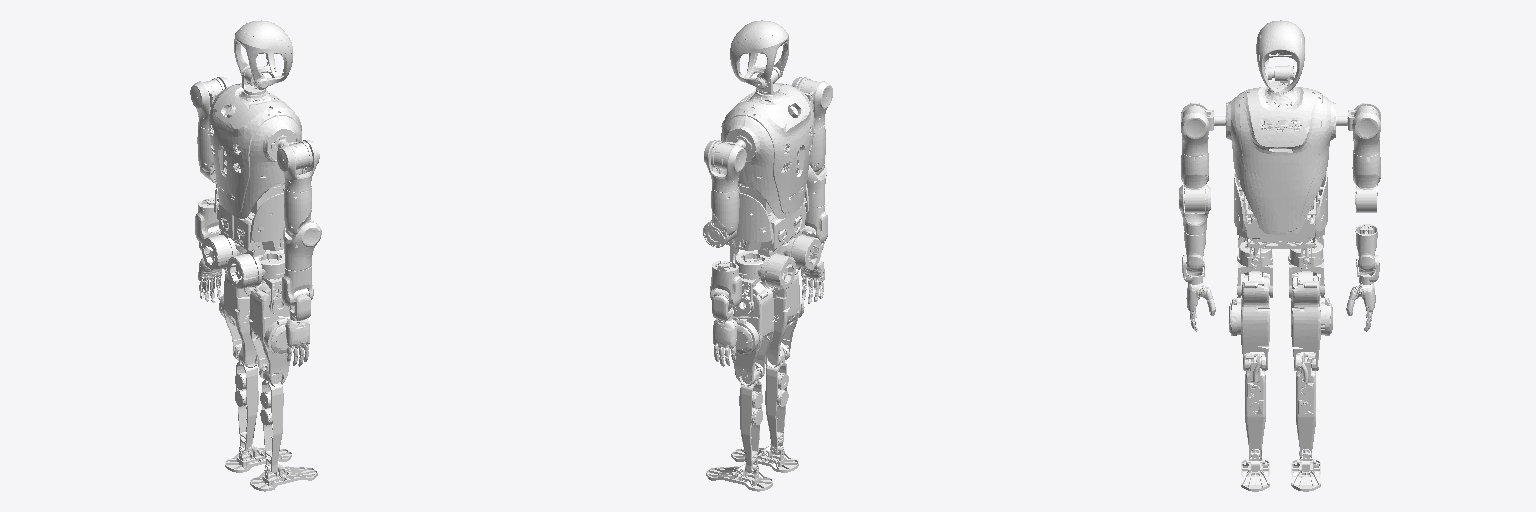
--- What the picture shows (computed from the rendered views, not written in the file) ---
The picture shows the robot from 3 angles, left to right: view 1: azimuth 30°, elevation 25°; view 2: azimuth 150°, elevation 25°; view 3: azimuth 270°, elevation 25°; orthographic projection.
Robot: biped_s45 — 47 links, 46 joints (28 revolute, 18 fixed); root link dummy_link; default pose: every joint at zero.
Visible links, largest first — view 1: base_link, leg_r3_link, zhead_2_link, leg_l3_link, leg_l4_link, leg_r4_link, zarm_r7_link, zarm_r4_link, zarm_r2_link, zarm_r3_link, leg_r6_link, leg_l6_link (+7 smaller); view 2: base_link, leg_l3_link, zhead_2_link, leg_r3_link, leg_l4_link, leg_r4_link, zarm_l3_link, zarm_l7_link, zarm_l2_link, leg_l6_link, zarm_l5_link, leg_r6_link (+7 smaller); view 3: base_link, leg_l3_link, leg_r3_link, zhead_2_link, leg_r4_link, leg_l4_link, zarm_l3_link, zarm_r3_link, zarm_l2_link, zarm_r2_link, zarm_l7_link, zarm_r7_link (+7 smaller).
Link boxes in pixels (x1,y1,x2,y2): base_link: [202, 83, 301, 288]; leg_r3_link: [249, 281, 293, 386]; zhead_2_link: [234, 20, 292, 89]; leg_l3_link: [219, 269, 257, 367]; leg_l4_link: [235, 346, 258, 454]; leg_r4_link: [260, 366, 283, 472]; zarm_r7_link: [285, 295, 310, 366]; zarm_r4_link: [283, 222, 321, 270]; zarm_r2_link: [277, 140, 319, 192]; zarm_r3_link: [284, 188, 316, 238]; leg_r6_link: [250, 463, 317, 491]; leg_l6_link: [225, 444, 291, 472]; base_link: [721, 83, 821, 288]; leg_l3_link: [729, 281, 773, 386]; zhead_2_link: [730, 20, 788, 89]; leg_r3_link: [765, 269, 804, 367]; leg_l4_link: [739, 362, 762, 472]; leg_r4_link: [765, 345, 788, 454]; zarm_l3_link: [703, 187, 739, 247]; zarm_l7_link: [712, 295, 737, 366]; zarm_l2_link: [704, 140, 746, 192]; leg_l6_link: [706, 463, 772, 491]; zarm_l5_link: [710, 261, 741, 305]; leg_r6_link: [731, 444, 798, 472]; base_link: [1226, 83, 1335, 268]; leg_l3_link: [1291, 271, 1332, 370]; leg_r3_link: [1229, 271, 1269, 370]; zhead_2_link: [1256, 20, 1304, 93]; leg_r4_link: [1245, 352, 1265, 458]; leg_l4_link: [1296, 352, 1315, 458]; zarm_l3_link: [1352, 152, 1380, 212]; zarm_r3_link: [1181, 153, 1208, 212]; zarm_l2_link: [1352, 103, 1380, 156]; zarm_r2_link: [1181, 103, 1208, 156]; zarm_l7_link: [1346, 255, 1379, 331]; zarm_r7_link: [1182, 255, 1215, 331].
Size in the robot's own frame: 0.3146 by 0.6896 by 1.68 metres.
31 mesh visuals loaded from 32 distinct referenced files (31 binary STL); not drawn: 1 (reference not matched to a file when rendering).

The robot description file, URDF, robot "biped_s45":
<?xml version='1.0' encoding='utf-8'?>
<robot name="biped_s45">
  <mujoco>
    <compiler meshdir="../meshes/" balanceinertia="true" discardvisual="false" />
  </mujoco>
  <link name="dummy_link" />
  <link name="base_link">
    <inertial>
      <origin xyz="-0.0185005 0.00031952 0.1929569" rpy="0 0 0" />
      <mass value="25.69833803" />
      <inertia ixx="0.93103133" ixy="0.00011763" ixz="-0.07210993" iyy="0.82590532" iyz="6.88e-06" izz="0.27686612" />
    </inertial>
    <visual>
      <origin xyz="0 0 0" rpy="0 0 0" />
      <geometry>
        <mesh filename="package://biped_s45/meshes/torso.STL" />
      </geometry>
      <material name="">
        <color rgba="1 1 1 1" />
      </material>
    </visual>
  </link>
  <joint name="dummy_to_base_link" type="fixed">
    <origin xyz="0 0 0" rpy="0 0 0" />
    <parent link="dummy_link" />
    <child link="base_link" />
    <dynamics damping="0.2" friction="0.1"/>
  </joint>
  <link name="leg_l1_link">
    <inertial>
      <origin xyz="-0.00430148 -2.708e-05 -0.00851195" rpy="0 0 0" />
      <mass value="1.71093115" />
      <inertia ixx="0.00206092" ixy="1.97e-06" ixz="6.944e-05" iyy="0.00277274" iyz="-5.1e-06" izz="0.00370826" />
    </inertial>
    <visual>
      <origin xyz="0 0 0" rpy="0 0 0" />
      <geometry>
        <mesh filename="package://biped_s45/meshes/l_leg_roll.STL" />
      </geometry>
      <material name="">
        <color rgba="1 1 1 1" />
      </material>
    </visual>
  </link>
  <joint name="leg_l1_joint" type="revolute">
    <origin xyz="-0.0024999 0.087 -0.066" rpy="0 0 0" />
    <parent link="base_link" />
    <child link="leg_l1_link" />
    <axis xyz="1 0 0" />
    <limit lower="-0.314159265358979" upper="0.663225115757845" effort="180.0" velocity="23.55" />
    <dynamics damping="0.2" friction="0.1"/>
  </joint>
  <link name="leg_l2_link">
    <inertial>
      <origin xyz="0.0 -0.00231118 -0.09062539" rpy="0 0 0" />
      <mass value="0.58029165" />
      <inertia ixx="0.00223984" ixy="0.0" ixz="3e-08" iyy="0.00123175" iyz="-6.98e-06" izz="0.00146391" />
    </inertial>
    <visual>
      <origin xyz="0 0 0" rpy="0 0 0" />
      <geometry>
        <mesh filename="package://biped_s45/meshes/l_leg_yaw.STL" />
      </geometry>
      <material name="">
        <color rgba="1 1 1 1" />
      </material>
    </visual>
  </link>
  <joint name="leg_l2_joint" type="revolute">
    <origin xyz="0 0 0" rpy="0 0 0" />
    <parent link="leg_l1_link" />
    <child link="leg_l2_link" />
    <axis xyz="0 0 1" />
    <limit lower="-0.872664625997165" upper="0.785398163397448" effort="100.0" velocity="41.3433333333333" />
    <dynamics damping="0.5" friction="0.1"/>
  </joint>
  <link name="leg_l3_link">
    <inertial>
      <origin xyz="0.00150537 0.01199614 -0.08411619" rpy="0 0 0" />
      <mass value="4.50393141" />
      <inertia ixx="0.0389365" ixy="7.866e-05" ixz="0.00102086" iyy="0.03942609" iyz="0.00219138" izz="0.00999961" />
    </inertial>
    <visual>
      <origin xyz="0 0 0" rpy="0 0 0" />
      <geometry>
        <mesh filename="package://biped_s45/meshes/l_leg_pitch.STL" />
      </geometry>
      <material name="">
        <color rgba="1 1 1 1" />
      </material>
    </visual>
  </link>
  <joint name="leg_l3_joint" type="revolute">
    <origin xyz="0.000500354536093913 -0.00100000000000011 -0.1287" rpy="0 0 0" />
    <parent link="leg_l2_link" />
    <child link="leg_l3_link" />
    <axis xyz="0 1 0" />
    <limit lower="-2.00712863979348" upper="1.5707963267949" effort="100.0" velocity="41.3433333333333" />
    <dynamics damping="0.2" friction="0.1"/>
  </joint>
  <link name="leg_l4_link">
    <inertial>
      <origin xyz="0.00696242 5.314e-05 -0.11549851" rpy="0 0 0" />
      <mass value="1.62776815" />
      <inertia ixx="0.01243912" ixy="-2.29e-06" ixz="5.881e-05" iyy="0.01229563" iyz="-2.895e-05" izz="0.00097937" />
    </inertial>
    <visual>
      <origin xyz="0 0 0" rpy="0 0 0" />
      <geometry>
        <mesh filename="package://biped_s45/meshes/l_knee.STL" />
      </geometry>
      <material name="">
        <color rgba="1 1 1 1" />
      </material>
    </visual>
  </link>
  <joint name="leg_l4_joint" type="revolute">
    <origin xyz="-6.87185435835039E-05 0 -0.284" rpy="0 0 0" />
    <parent link="leg_l3_link" />
    <child link="leg_l4_link" />
    <axis xyz="0 1 0" />
    <limit lower="0.0" upper="2.53072741539178" effort="180.0" velocity="23.55" />
    <dynamics damping="0.2" friction="0.1"/>
  </joint>
  <link name="leg_l5_link">
    <inertial>
      <origin xyz="0.0 0.0 0.0" rpy="0 0 0" />
      <mass value="0.07193524" />
      <inertia ixx="6.92e-04" ixy="0.0" ixz="0.0" iyy="6.92e-04" iyz="0.0" izz="1.218e-04" />
    </inertial>
    <visual>
      <origin xyz="0 0 0" rpy="0 0 0" />
      <geometry>
        <mesh filename="package://biped_s45/meshes/l_foot_pitch.STL" />
      </geometry>
      <material name="">
        <color rgba="1 1 1 1" />
      </material>
    </visual>
  </link>
  <joint name="leg_l5_joint" type="revolute">
    <origin xyz="-0.000431635992531742 0 -0.346000000000001" rpy="0 0 0" />
    <parent link="leg_l4_link" />
    <child link="leg_l5_link" />
    <axis xyz="0 1 0" />
    <limit lower="-0.872664625997165" upper="0.349065850398866" effort="36.0" velocity="23.0266666666667" />
    <dynamics damping="0.2" friction="0.1"/>
  </joint>
  <link name="leg_l6_link">
    <inertial>
      <origin xyz="0.03732754 -2.22e-06 -0.03883977" rpy="0 0 0" />
      <mass value="0.49861272" />
      <inertia ixx="0.00039242" ixy="3e-08" ixz="4.664e-05" iyy="0.00158655" iyz="0.0" izz="0.00172576" />
    </inertial>
    <visual>
      <origin xyz="0 0 0" rpy="0 0 0" />
      <geometry>
        <mesh filename="package://biped_s45/meshes/l_foot_roll.STL" />
      </geometry>
      <material name="">
        <color rgba="1 1 1 1" />
      </material>
    </visual>
  </link>
  <joint name="leg_l6_joint" type="revolute">
    <origin xyz="0 0 0" rpy="0 0 0" />
    <parent link="leg_l5_link" />
    <child link="leg_l6_link" />
    <axis xyz="1 0 0" />
    <limit lower="-0.261799387799149" upper="0.261799387799149" effort="36.0" velocity="23.0266666666667" />
    <dynamics damping="0.2" friction="0.1"/>
  </joint>
  <link name="ll_foot_toe">
    <collision>
      <origin rpy="0 0 0" xyz="0 0 0" />
      <geometry>
        <sphere radius="0.005" />
      </geometry>
    </collision>
  </link>
  <joint name="ll_foot_toe_joint" type="fixed">
    <origin xyz="0.17084 0.04773 -0.0595" rpy="0 0 0" />
    <parent link="leg_l6_link" />
    <child link="ll_foot_toe" />
    <dynamics damping="0.2" friction="0.1"/>
  </joint>
  <link name="ll_foot_heel">
    <collision>
      <origin rpy="0 0 0" xyz="0 0 0" />
      <geometry>
        <sphere radius="0.005" />
      </geometry>
    </collision>
  </link>
  <joint name="ll_foot_heel_joint" type="fixed">
    <origin xyz="-0.073164 0.04773 -0.0595" rpy="0 0 0" />
    <parent link="leg_l6_link" />
    <child link="ll_foot_heel" />
    <dynamics damping="0.2" friction="0.1"/>
  </joint>
  <link name="lr_foot_toe">
    <collision>
      <origin rpy="0 0 0" xyz="0 0 0" />
      <geometry>
        <sphere radius="0.005" />
      </geometry>
    </collision>
  </link>
  <joint name="lr_foot_toe_joint" type="fixed">
    <origin xyz="0.17084 -0.04773 -0.0595" rpy="0 0 0" />
    <parent link="leg_l6_link" />
    <child link="lr_foot_toe" />
    <dynamics damping="0.2" friction="0.1"/>
  </joint>
  <link name="lr_foot_heel">
    <collision>
      <origin rpy="0 0 0" xyz="0 0 0" />
      <geometry>
        <sphere radius="0.005" />
      </geometry>
    </collision>
  </link>
  <joint name="lr_foot_heel_joint" type="fixed">
    <origin xyz="-0.073164 -0.04773 -0.0595" rpy="0 0 0" />
    <parent link="leg_l6_link" />
    <child link="lr_foot_heel" />
    <dynamics damping="0.2" friction="0.1"/>
  </joint>
  <link name="l_foot_toe">
    <collision>
      <origin rpy="0 0 0" xyz="0 0 0" />
      <geometry>
        <sphere radius="0.005" />
      </geometry>
    </collision>
  </link>
  <joint name="l_foot_toe_joint" type="fixed">
    <origin xyz="0.17084 0.0 -0.0595" rpy="0 0 0" />
    <parent link="leg_l6_link" />
    <child link="l_foot_toe" />
    <dynamics damping="0.2" friction="0.1"/>
  </joint>
  <link name="l_foot_heel">
    <collision>
      <origin rpy="0 0 0" xyz="0 0 0" />
      <geometry>
        <sphere radius="0.005" />
      </geometry>
    </collision>
  </link>
  <joint name="l_foot_heel_joint" type="fixed">
    <origin xyz="-0.073164 0.0 -0.0595" rpy="0 0 0" />
    <parent link="leg_l6_link" />
    <child link="l_foot_heel" />
    <dynamics damping="0.2" friction="0.1"/>
  </joint>
  <link name="leg_r1_link">
    <inertial>
      <origin xyz="-0.00430146 2.709e-05 -0.00851195" rpy="0 0 0" />
      <mass value="1.71093008" />
      <inertia ixx="0.00206092" ixy="-1.97e-06" ixz="6.944e-05" iyy="0.00277274" iyz="5.1e-06" izz="0.00370826" />
    </inertial>
    <visual>
      <origin xyz="0 0 0" rpy="0 0 0" />
      <geometry>
        <mesh filename="package://biped_s45/meshes/r_leg_roll.STL" />
      </geometry>
      <material name="">
        <color rgba="1 1 1 1" />
      </material>
    </visual>
  </link>
  <joint name="leg_r1_joint" type="revolute">
    <origin xyz="-0.0024999 -0.087 -0.066" rpy="0 0 0" />
    <parent link="base_link" />
    <child link="leg_r1_link" />
    <axis xyz="1 0 0" />
    <limit lower="-0.663225115757845" upper="0.314159265358979" effort="180.0" velocity="23.55" />
    <dynamics damping="0.2" friction="0.1"/>
  </joint>
  <link name="leg_r2_link">
    <inertial>
      <origin xyz="0.0 0.00231118 -0.09062539" rpy="0 0 0" />
      <mass value="0.58029165" />
      <inertia ixx="0.00223984" ixy="0.0" ixz="-3e-08" iyy="0.00123175" iyz="6.98e-06" izz="0.00146391" />
    </inertial>
    <visual>
      <origin xyz="0 0 0" rpy="0 0 0" />
      <geometry>
        <mesh filename="package://biped_s45/meshes/r_leg_yaw.STL" />
      </geometry>
      <material name="">
        <color rgba="1 1 1 1" />
      </material>
    </visual>
  </link>
  <joint name="leg_r2_joint" type="revolute">
    <origin xyz="0 0 0" rpy="0 0 0" />
    <parent link="leg_r1_link" />
    <child link="leg_r2_link" />
    <axis xyz="0 0 1" />
    <limit lower="-0.785398163397448" upper="0.872664625997165" effort="100.0" velocity="41.3433333333333" />
    <dynamics damping="0.5" friction="0.1"/>
  </joint>
  <link name="leg_r3_link">
    <inertial>
      <origin xyz="0.00208315 -0.01199644 -0.08411379" rpy="0 0 0" />
      <mass value="4.50385993" />
      <inertia ixx="0.03893478" ixy="-7.792e-05" ixz="0.00103064" iyy="0.03942522" iyz="-0.00219154" izz="0.01000016" />
    </inertial>
    <visual>
      <origin xyz="0 0 0" rpy="0 0 0" />
      <geometry>
        <mesh filename="package://biped_s45/meshes/r_leg_pitch.STL" />
      </geometry>
      <material name="">
        <color rgba="1 1 1 1" />
      </material>
    </visual>
  </link>
  <joint name="leg_r3_joint" type="revolute">
    <origin xyz="-4.88006581312577E-05 0 -0.1287" rpy="0 0 0" />
    <parent link="leg_r2_link" />
    <child link="leg_r3_link" />
    <axis xyz="0 1 0" />
    <limit lower="-2.00712863979348" upper="1.5707963267949" effort="100.0" velocity="41.3433333333333" />
    <dynamics damping="0.2" friction="0.1"/>
  </joint>
  <link name="leg_r4_link">
    <inertial>
      <origin xyz="0.00743231 -5.343e-05 -0.11558701" rpy="0 0 0" />
      <mass value="1.62655699" />
      <inertia ixx="0.01241258" ixy="2.28e-06" ixz="6.289e-05" iyy="0.0122692" iyz="2.902e-05" izz="0.00097927" />
    </inertial>
    <visual>
      <origin xyz="0 0 0" rpy="0 0 0" />
      <geometry>
        <mesh filename="package://biped_s45/meshes/r_knee.STL" />
      </geometry>
      <material name="">
        <color rgba="1 1 1 1" />
      </material>
    </visual>
  </link>
  <joint name="leg_r4_joint" type="revolute">
    <origin xyz="0.000147138572785148 0 -0.283999982974744" rpy="0 0 0" />
    <parent link="leg_r3_link" />
    <child link="leg_r4_link" />
    <axis xyz="0 1 0" />
    <limit lower="0.0" upper="2.53072741539178" effort="180.0" velocity="23.55" />
    <dynamics damping="0.2" friction="0.1"/>
  </joint>
  <link name="leg_r5_link">
    <inertial>
      <origin xyz="0.0 0.0 0.0" rpy="0 0 0" />
      <mass value="0.07193524" />
      <inertia ixx="6.92e-04" ixy="0.0" ixz="0.0" iyy="6.92e-04" iyz="0.0" izz="1.218e-04" />
    </inertial>
    <visual>
      <origin xyz="0 0 0" rpy="0 0 0" />
      <geometry>
        <mesh filename="package://biped_s45/meshes/r_foot_pitch.STL" />
      </geometry>
      <material name="">
        <color rgba="1 1 1 1" />
      </material>
    </visual>
  </link>
  <joint name="leg_r5_joint" type="revolute">
    <origin xyz="0.000119806050928577 0 -0.345999979257963" rpy="0 0 0" />
    <parent link="leg_r4_link" />
    <child link="leg_r5_link" />
    <axis xyz="0 1 0" />
    <limit lower="-0.872664625997165" upper="0.349065850398866" effort="36.0" velocity="23.0266666666667" />
    <dynamics damping="0.2" friction="0.1"/>
  </joint>
  <link name="leg_r6_link">
    <inertial>
      <origin xyz="0.03734098 -2.22e-06 -0.03882684" rpy="0 0 0" />
      <mass value="0.49861272" />
      <inertia ixx="0.00039238" ixy="3e-08" ixz="4.618e-05" iyy="0.00158655" iyz="0.0" izz="0.00172579" />
    </inertial>
    <visual>
      <origin xyz="0 0 0" rpy="0 0 0" />
      <geometry>
        <mesh filename="package://biped_s45/meshes/r_foot_roll.STL" />
      </geometry>
      <material name="">
        <color rgba="1 1 1 1" />
      </material>
    </visual>
  </link>
  <joint name="leg_r6_joint" type="revolute">
    <origin xyz="0 0 0" rpy="0 0 0" />
    <parent link="leg_r5_link" />
    <child link="leg_r6_link" />
    <axis xyz="1 0 0" />
    <limit lower="-0.261799387799149" upper="0.261799387799149" effort="36.0" velocity="23.0266666666667" />
    <dynamics damping="0.2" friction="0.1"/>
  </joint>
  <link name="rl_foot_toe">
    <collision>
      <origin rpy="0 0 0" xyz="0 0 0" />
      <geometry>
        <sphere radius="0.005" />
      </geometry>
    </collision>
  </link>
  <joint name="rl_foot_toe_joint" type="fixed">
    <origin xyz="0.17084 0.04773 -0.0595" rpy="0 0 0" />
    <parent link="leg_r6_link" />
    <child link="rl_foot_toe" />
    <dynamics damping="0.2" friction="0.1"/>
  </joint>
  <link name="rl_foot_heel">
    <collision>
      <origin rpy="0 0 0" xyz="0 0 0" />
      <geometry>
        <sphere radius="0.005" />
      </geometry>
    </collision>
  </link>
  <joint name="rl_foot_heel_joint" type="fixed">
    <origin xyz="-0.073164 0.04773 -0.0595" rpy="0 0 0" />
    <parent link="leg_r6_link" />
    <child link="rl_foot_heel" />
    <dynamics damping="0.2" friction="0.1"/>
  </joint>
  <link name="rr_foot_toe">
    <collision>
      <origin rpy="0 0 0" xyz="0 0 0" />
      <geometry>
        <sphere radius="0.005" />
      </geometry>
    </collision>
  </link>
  <joint name="rr_foot_toe_joint" type="fixed">
    <origin xyz="0.17084 -0.04773 -0.0595" rpy="0 0 0" />
    <parent link="leg_r6_link" />
    <child link="rr_foot_toe" />
    <dynamics damping="0.2" friction="0.1"/>
  </joint>
  <link name="rr_foot_heel">
    <collision>
      <origin rpy="0 0 0" xyz="0 0 0" />
      <geometry>
        <sphere radius="0.005" />
      </geometry>
    </collision>
  </link>
  <joint name="rr_foot_heel_joint" type="fixed">
    <origin xyz="-0.073164 -0.04773 -0.0595" rpy="0 0 0" />
    <parent link="leg_r6_link" />
    <child link="rr_foot_heel" />
    <dynamics damping="0.2" friction="0.1"/>
  </joint>
  <link name="r_foot_toe">
    <collision>
      <origin rpy="0 0 0" xyz="0 0 0" />
      <geometry>
        <sphere radius="0.005" />
      </geometry>
    </collision>
  </link>
  <joint name="r_foot_toe_joint" type="fixed">
    <origin xyz="0.17084 0.0 -0.0595" rpy="0 0 0" />
    <parent link="leg_r6_link" />
    <child link="r_foot_toe" />
    <dynamics damping="0.2" friction="0.1"/>
  </joint>
  <link name="r_foot_heel">
    <collision>
      <origin rpy="0 0 0" xyz="0 0 0" />
      <geometry>
        <sphere radius="0.005" />
      </geometry>
    </collision>
  </link>
  <joint name="r_foot_heel_joint" type="fixed">
    <origin xyz="-0.073164 0.0 -0.0595" rpy="0 0 0" />
    <parent link="leg_r6_link" />
    <child link="r_foot_heel" />
    <dynamics damping="0.2" friction="0.1"/>
  </joint>
  <link name="zarm_l1_link">
    <inertial>
      <origin xyz="-0.00083 -0.02218 0.00035" rpy="0 0 0" />
      <mass value="0.962" />
      <inertia ixx="0.00225" ixy="-3e-05" ixz="0.0" iyy="0.00099" iyz="-2e-05" izz="0.00227" />
    </inertial>
    <visual>
      <origin xyz="0 0 0" rpy="0 0 0" />
      <geometry>
        <mesh filename="package://biped_s45/meshes/l_arm_pitch.STL" />
      </geometry>
      <material name="">
        <color rgba="1 1 1 1" />
      </material>
    </visual>
  </link>
  <joint name="zarm_l1_joint" type="revolute">
    <origin xyz="-0.017499853 0.29269999999999996 0.4245" rpy="0 0 0" />
    <parent link="base_link" />
    <child link="zarm_l1_link" />
    <axis xyz="0 1 0" />
    <limit lower="-3.14159265358979" upper="1.5707963267949" effort="100.0" velocity="41.3433333333333" />
    <dynamics damping="0.2" friction="0.1"/>
  </joint>
  <link name="zarm_l2_link">
    <inertial>
      <origin xyz="-0.00791 0.0 -0.04655" rpy="0 0 0" />
      <mass value="0.57" />
      <inertia ixx="0.00163" ixy="0.0" ixz="5e-05" iyy="0.00211" iyz="0.0" izz="0.00122" />
    </inertial>
    <visual>
      <origin xyz="0 0 0" rpy="0 0 0" />
      <geometry>
        <mesh filename="package://biped_s45/meshes/l_arm_roll.STL" />
      </geometry>
      <material name="">
        <color rgba="1 1 1 1" />
      </material>
    </visual>
  </link>
  <joint name="zarm_l2_joint" type="revolute">
    <origin xyz="0 0 0" rpy="0 0 0" />
    <parent link="zarm_l1_link" />
    <child link="zarm_l2_link" />
    <axis xyz="1 0 0" />
    <limit lower="-0.349065850398866" upper="2.0943951023932" effort="50.0" velocity="19.154" />
    <dynamics damping="0.2" friction="0.1"/>
  </joint>
  <link name="zarm_l3_link">
    <inertial>
      <origin xyz="0.00628 0.00107 -0.20878" rpy="0 0 0" />
      <mass value="1.65" />
      <inertia ixx="0.00815" ixy="-4e-05" ixz="0.00085" iyy="0.00828" iyz="0.00014" izz="0.00206" />
    </inertial>
    <visual>
      <origin xyz="0 0 0" rpy="0 0 0" />
      <geometry>
        <mesh filename="package://biped_s45/meshes/l_arm_yaw.STL" />
      </geometry>
      <material name="">
        <color rgba="1 1 1 1" />
      </material>
    </visual>
  </link>
  <joint name="zarm_l3_joint" type="revolute">
    <origin xyz="0 0 0" rpy="0 0 0" />
    <parent link="zarm_l2_link" />
    <child link="zarm_l3_link" />
    <axis xyz="0 0 1" />
    <limit lower="-1.5707963267949" upper="1.5707963267949" effort="39.0" velocity="18.84" />
    <dynamics damping="0.2" friction="0.1"/>
  </joint>
  <link name="zarm_l4_link">
    <inertial>
      <origin xyz="-0.01611 0.00143 -0.04857" rpy="0 0 0" />
      <mass value="0.429" />
      <inertia ixx="0.00135" ixy="0.0" ixz="-0.0001" iyy="0.00114" iyz="0.0" izz="0.00083" />
    </inertial>
    <visual>
      <origin xyz="0 0 0" rpy="0 0 0" />
      <geometry>
        <mesh filename="package://biped_s45/meshes/l_forearm.STL" />
      </geometry>
      <material name="">
        <color rgba="1 1 1 1" />
      </material>
    </visual>
  </link>
  <joint name="zarm_l4_joint" type="revolute">
    <origin xyz="0.0200000000000006 0 -0.283699999999996" rpy="0 0 0" />
    <parent link="zarm_l3_link" />
    <child link="zarm_l4_link" />
    <axis xyz="0 1 0" />
    <limit lower="-2.61799387799149" upper="0.0" effort="50.0" velocity="18.84" />
    <dynamics damping="0.2" friction="0.1"/>
  </joint>
  <link name="zarm_l5_link">
    <inertial>
      <origin xyz="-0.00207 0.00018 -0.05079" rpy="0 0 0" />
      <mass value="0.61" />
      <inertia ixx="0.00107" ixy="0.0" ixz="-4e-05" iyy="0.00146" iyz="0.0" izz="0.00083" />
    </inertial>
    <visual>
      <origin xyz="0 0 0" rpy="0 0 0" />
      <geometry>
        <mesh filename="package://biped_s45/meshes/l_hand_yaw.STL" />
      </geometry>
      <material name="">
        <color rgba="1 1 1 1" />
      </material>
    </visual>
  </link>
  <joint name="zarm_l5_joint" type="revolute">
    <origin xyz="-0.0200000000000025 0 -0.127037274261591" rpy="0 0 0" />
    <parent link="zarm_l4_link" />
    <child link="zarm_l5_link" />
    <axis xyz="0 0 1" />
    <limit lower="-1.5707963267949" upper="1.5707963267949" effort="12.0" velocity="21.666" />
    <dynamics damping="0.2" friction="0.1"/>
  </joint>
  <link name="zarm_l6_link">
    <inertial>
      <origin xyz="-0.00111 0.00335 -0.01335" rpy="0 0 0" />
      <mass value="0.331" />
      <inertia ixx="0.00022" ixy="0.0" ixz="0.0" iyy="0.00027" iyz="0.0" izz="0.00028" />
    </inertial>
    <visual>
      <origin xyz="0 0 0" rpy="0 0 0" />
      <geometry>
        <mesh filename="package://biped_s45/meshes/l_hand_roll.STL" />
      </geometry>
      <material name="">
        <color rgba="1 1 1 1" />
      </material>
    </visual>
  </link>
  <joint name="zarm_l6_joint" type="revolute">
    <origin xyz="0.000199999999999079 0 -0.106462725738415" rpy="0 0 0" />
    <parent link="zarm_l5_link" />
    <child link="zarm_l6_link" />
    <axis xyz="1 0 0" />
    <limit lower="-1.30899693899575" upper="0.698131700797732" effort="12.0" velocity="21.666" />
    <dynamics damping="0.2" friction="0.1"/>
  </joint>
  <link name="zarm_l7_link">
    <inertial>
      <origin xyz="0.00186 0.01014 -0.09044" rpy="0 0 0" />
      <mass value="0.64" />
      <inertia ixx="0.00071" ixy="1e-05" ixz="2e-05" iyy="0.0007" iyz="-4e-05" izz="0.00012" />
    </inertial>
    <visual>
      <origin xyz="0 0 0" rpy="0 0 0" />
      <geometry>
        <mesh filename="package://biped_s45/meshes/l_hand_pitch.STL" />
      </geometry>
      <material name="">
        <color rgba="1 1 1 1" />
      </material>
    </visual>
  </link>
  <joint name="zarm_l7_joint" type="revolute">
    <origin xyz="0 0 -0.0210004653879916" rpy="0 0 0" />
    <parent link="zarm_l6_link" />
    <child link="zarm_l7_link" />
    <axis xyz="0 1 0" />
    <limit lower="-0.698131700797732" upper="0.698131700797732" effort="12.0" velocity="21.666" />
    <dynamics damping="0.2" friction="0.1"/>
  </joint>
  <link name="zarm_l7_end_effector">
    <collision>
      <origin rpy="0 0 0" xyz="0 0 0" />
      <geometry>
        <sphere radius="0.005" />
      </geometry>
    </collision>
  </link>
  <joint name="zarm_l7_end_effector_joint" type="fixed">
    <origin xyz="0 -0.03 -0.17" rpy="0 0 0" />
    <parent link="zarm_l7_link" />
    <child link="zarm_l7_end_effector" />
    <dynamics damping="0.2" friction="0.1"/>
  </joint>
  <link name="zarm_r1_link">
    <inertial>
      <origin xyz="-0.00083 0.02218 0.00035" rpy="0 0 0" />
      <mass value="0.962" />
      <inertia ixx="0.00225" ixy="3e-05" ixz="0.0" iyy="0.00099" iyz="2e-05" izz="0.00227" />
    </inertial>
    <visual>
      <origin xyz="0 0 0" rpy="0 0 0" />
      <geometry>
        <mesh filename="package://biped_s45/meshes/r_arm_pitch.STL" />
      </geometry>
      <material name="">
        <color rgba="1 1 1 1" />
      </material>
    </visual>
  </link>
  <joint name="zarm_r1_joint" type="revolute">
    <origin xyz="-0.017499853 -0.29269999999999996 0.4245" rpy="0 0 0" />
    <parent link="base_link" />
    <child link="zarm_r1_link" />
    <axis xyz="0 1 0" />
    <limit lower="-3.14159265358979" upper="1.5707963267949" effort="100.0" velocity="41.3433333333333" />
    <dynamics damping="0.2" friction="0.1"/>
  </joint>
  <link name="zarm_r2_link">
    <inertial>
      <origin xyz="-0.00791 0.0 -0.04655" rpy="0 0 0" />
      <mass value="0.57" />
      <inertia ixx="0.00163" ixy="0.0" ixz="5e-05" iyy="0.00211" iyz="0.0" izz="0.00122" />
    </inertial>
    <visual>
      <origin xyz="0 0 0" rpy="0 0 0" />
      <geometry>
        <mesh filename="package://biped_s45/meshes/r_arm_roll.STL" />
      </geometry>
      <material name="">
        <color rgba="1 1 1 1" />
      </material>
    </visual>
  </link>
  <joint name="zarm_r2_joint" type="revolute">
    <origin xyz="0 0 0" rpy="0 0 0" />
    <parent link="zarm_r1_link" />
    <child link="zarm_r2_link" />
    <axis xyz="1 0 0" />
    <limit lower="-2.0943951023932" upper="0.349065850398866" effort="50.0" velocity="19.154" />
    <dynamics damping="0.2" friction="0.1"/>
  </joint>
  <link name="zarm_r3_link">
    <inertial>
      <origin xyz="0.00628 -0.00107 -0.20878" rpy="0 0 0" />
      <mass value="1.65" />
      <inertia ixx="0.00815" ixy="4e-05" ixz="0.00085" iyy="0.00828" iyz="-0.00014" izz="0.00206" />
    </inertial>
    <visual>
      <origin xyz="0 0 0" rpy="0 0 0" />
      <geometry>
        <mesh filename="package://biped_s45/meshes/r_arm_yaw.STL" />
      </geometry>
      <material name="">
        <color rgba="1 1 1 1" />
      </material>
    </visual>
  </link>
  <joint name="zarm_r3_joint" type="revolute">
    <origin xyz="0 0 0" rpy="0 0 0" />
    <parent link="zarm_r2_link" />
    <child link="zarm_r3_link" />
    <axis xyz="0 0 1" />
    <limit lower="-1.5707963267949" upper="1.5707963267949" effort="39.0" velocity="18.84" />
    <dynamics damping="0.2" friction="0.1"/>
  </joint>
  <link name="zarm_r4_link">
    <inertial>
      <origin xyz="-0.01611 -0.00143 -0.04857" rpy="0 0 0" />
      <mass value="0.429" />
      <inertia ixx="0.00135" ixy="0.0" ixz="-0.0001" iyy="0.00114" iyz="0.0" izz="0.00083" />
    </inertial>
    <visual>
      <origin xyz="0 0 0" rpy="0 0 0" />
      <geometry>
        <mesh filename="package://biped_s45/meshes/r_forearm.STL" />
      </geometry>
      <material name="">
        <color rgba="1 1 1 1" />
      </material>
    </visual>
  </link>
  <joint name="zarm_r4_joint" type="revolute">
    <origin xyz="0.0200000000000024 0 -0.2837" rpy="0 0 0" />
    <parent link="zarm_r3_link" />
    <child link="zarm_r4_link" />
    <axis xyz="0 1 0" />
    <limit lower="-2.61799387799149" upper="0.0" effort="50.0" velocity="18.84" />
    <dynamics damping="0.2" friction="0.1"/>
  </joint>
  <link name="zarm_r5_link">
    <inertial>
      <origin xyz="-0.00207 -0.00018 -0.05079" rpy="0 0 0" />
      <mass value="0.61" />
      <inertia ixx="0.00107" ixy="0.0" ixz="-4e-05" iyy="0.00146" iyz="0.0" izz="0.00083" />
    </inertial>
    <visual>
      <origin xyz="0 0 0" rpy="0 0 0" />
      <geometry>
        <mesh filename="package://biped_s45/meshes/r_hand_yaw.STL" />
      </geometry>
      <material name="">
        <color rgba="1 1 1 1" />
      </material>
    </visual>
  </link>
  <joint name="zarm_r5_joint" type="revolute">
    <origin xyz="-0.0200000000000001 0 -0.127037274261587" rpy="0 0 0" />
    <parent link="zarm_r4_link" />
    <child link="zarm_r5_link" />
    <axis xyz="0 0 1" />
    <limit lower="-1.5707963267949" upper="1.5707963267949" effort="12.0" velocity="21.666" />
    <dynamics damping="0.2" friction="0.1"/>
  </joint>
  <link name="zarm_r6_link">
    <inertial>
      <origin xyz="-0.00111 -0.00335 -0.01335" rpy="0 0 0" />
      <mass value="0.331" />
      <inertia ixx="0.00022" ixy="0.0" ixz="0.0" iyy="0.00027" iyz="0.0" izz="0.00028" />
    </inertial>
    <visual>
      <origin xyz="0 0 0" rpy="0 0 0" />
      <geometry>
        <mesh filename="package://biped_s45/meshes/r_hand_roll.STL" />
      </geometry>
      <material name="">
        <color rgba="1 1 1 1" />
      </material>
    </visual>
  </link>
  <joint name="zarm_r6_joint" type="revolute">
    <origin xyz="0 0 -0.106462725738415" rpy="0 0 0" />
    <parent link="zarm_r5_link" />
    <child link="zarm_r6_link" />
    <axis xyz="1 0 0" />
    <limit lower="-0.698131700797732" upper="1.30899693899575" effort="12.0" velocity="21.666" />
    <dynamics damping="0.2" friction="0.1"/>
  </joint>
  <link name="zarm_r7_link">
    <inertial>
      <origin xyz="0.00186 -0.01014 -0.09044" rpy="0 0 0" />
      <mass value="0.64" />
      <inertia ixx="0.00069" ixy="-1e-05" ixz="2e-05" iyy="0.00068" iyz="5e-05" izz="0.00012" />
    </inertial>
    <visual>
      <origin xyz="0 0 0" rpy="0 0 0" />
      <geometry>
        <mesh filename="package://biped_s45/meshes/r_hand_pitch.STL" />
      </geometry>
      <material name="">
        <color rgba="1 1 1 1" />
      </material>
    </visual>
  </link>
  <joint name="zarm_r7_joint" type="revolute">
    <origin xyz="0 0 -0.0209999999999999" rpy="0 0 0" />
    <parent link="zarm_r6_link" />
    <child link="zarm_r7_link" />
    <axis xyz="0 1 0" />
    <limit lower="-0.698131700797732" upper="0.698131700797732" effort="12.0" velocity="21.666" />
    <dynamics damping="0.2" friction="0.1"/>
  </joint>
  <link name="zarm_r7_end_effector">
    <collision>
      <origin rpy="0 0 0" xyz="0 0 0" />
      <geometry>
        <sphere radius="0.005" />
      </geometry>
    </collision>
  </link>
  <joint name="zarm_r7_end_effector_joint" type="fixed">
    <origin xyz="0 0.03 -0.17" rpy="0 0 0" />
    <parent link="zarm_r7_link" />
    <child link="zarm_r7_end_effector" />
    <dynamics damping="0.2" friction="0.1"/>
  </joint>
  <link name="zhead_1_link">
    <inertial>
      <origin xyz="2e-05 0.00605 -0.01052" rpy="0 0 0" />
      <mass value="0.35" />
      <inertia ixx="7e-05" ixy="0.0" ixz="0.0" iyy="5e-05" iyz="0.0" izz="5e-05" />
    </inertial>
    <visual>
      <origin xyz="0 0 0" rpy="0 0 0" />
      <geometry>
        <mesh filename="package://biped_s45/meshes/head_yaw.STL" />
      </geometry>
      <material name="">
        <color rgba="1 1 1 1" />
      </material>
    </visual>
  </link>
  <joint name="zhead_1_joint" type="revolute">
    <origin xyz="-0.018499853 0.0 0.6014" rpy="0 0 0" />
    <parent link="base_link" />
    <child link="zhead_1_link" />
    <axis xyz="0 0 1" />
    <limit lower="-1.5707963267949" upper="1.5707963267949" effort="1.5" velocity="5.23333333333333" />
    <dynamics damping="0.2" friction="0.1"/>
  </joint>
  <link name="zhead_2_link">
    <inertial>
      <origin xyz="0.02648 -0.00142 0.10674" rpy="0 0 0" />
      <mass value="0.5492" />
      <inertia ixx="0.00346" ixy="-3e-05" ixz="0.00017" iyy="0.00348" iyz="-7e-05" izz="0.00222" />
    </inertial>
    <visual>
      <origin xyz="0 0 0" rpy="0 0 0" />
      <geometry>
        <mesh filename="package://biped_s45/meshes/head_pitch.STL" />
      </geometry>
      <material name="">
        <color rgba="1 1 1 1" />
      </material>
    </visual>
  </link>
  <joint name="zhead_2_joint" type="revolute">
    <origin xyz="0 0 0" rpy="0 0 0" />
    <parent link="zhead_1_link" />
    <child link="zhead_2_link" />
    <axis xyz="0 1 0" />
    <limit lower="-0.523598775598299" upper="0.523598775598299" effort="12.0" velocity="5.23333333333333" />
    <dynamics damping="0.2" friction="0.1"/>
  </joint>
  <link name="camera">
    <inertial>
      <origin xyz="-0.04257 -0.01736 -0.01161" rpy="0 0 0" />
      <mass value="0.047" />
      <inertia ixx="0.00065" ixy="0.0" ixz="0.00015" iyy="0.00091" iyz="0.0" izz="0.00105" />
    </inertial>
    <visual>
      <origin xyz="0 0 0" rpy="0 0 0" />
      <geometry>
        <mesh filename="package://biped_s45/meshes/camera.STL" />
      </geometry>
      <material name="">
        <color rgba="1 1 1 1" />
      </material>
    </visual>
  </link>
  <joint name="camera" type="fixed">
    <origin xyz="0.0967509784707853 0.0175003248712456 0.125953265112721" rpy="0 0.488692190558413 0" />
    <parent link="zhead_2_link" />
    <child link="camera" />
    <dynamics damping="0.2" friction="0.1"/>
  </joint>

  <link
    name="camera_base">
    <inertial>
      <origin
        xyz="0.00354055659132058 0.00140392784997684 0.0124511787517705"
        rpy="0 0 0" />
      <mass
        value="0.0170256015508834" />
      <inertia
        ixx="1.0918264029313E-05"
        ixy="1.05354408167889E-07"
        ixz="1.05871497323805E-08"
        iyy="8.57178950734466E-07"
        iyz="1.64018651463453E-08"
        izz="1.02869893338382E-05" />
    </inertial>
    <visual>
      <origin
        xyz="0 0 0"
        rpy="0 0 0" />
      <geometry>
        <mesh
          filename="package://biped_s45/meshes/camera_base.STL" />
      </geometry>
      <material
        name="">
        <color
          rgba="1 1 1 1" />
      </material>
    </visual>
    <collision>
      <origin
        xyz="0 0 0"
        rpy="0 0 0" />
      <geometry>
        <mesh
          filename="package://biped_s45/meshes/camera_base.STL" />
      </geometry>
    </collision>
  </link>
  <joint
    name="camera_base"
    type="fixed">
    <origin
      xyz="0.0828919080642966 0 0.119165137551254"
      rpy="0 0.488692190558416 0" />
    <parent
      link="zhead_2_link" />
    <child
      link="camera_base" />
  </joint>

  <link name="radar">
    <inertial>
      <origin xyz="-0.00018 1e-05 0.01777" rpy="0 0 0" />
      <mass value="0.2688" />
      <inertia ixx="0.00013" ixy="0.0" ixz="0.0" iyy="0.00014" iyz="0.0" izz="0.00014" />
    </inertial>
    <visual>
      <origin xyz="0 0 0" rpy="0 0 0" />
      <geometry>
        <mesh filename="package://biped_s45/meshes/radar.STL" />
      </geometry>
      <material name="">
        <color rgba="1 1 1 1" />
      </material>
    </visual>
  </link>
  <joint name="radar" type="fixed">
    <origin xyz="0.0217799337881943 0 0.105417258037133" rpy="0 0.229686043245049 0" />
    <parent link="zhead_2_link" />
    <child link="radar" />
    <dynamics damping="0.2" friction="0.1"/>
  </joint>

  
  <!-- 在原有的gazebo插件配置后添加 -->
  <!-- 真值 -->
  <gazebo>
    <plugin filename="libgazebo_ros_p3d.so" name="p3d_base_controller">
      <alwaysOn>true</alwaysOn>
      <updateRate>500.0</updateRate>
      <bodyName>base_link</bodyName>
      <topicName>ground_truth/state</topicName>
      <gaussianNoise>0</gaussianNoise>
      <frameName>world</frameName>
      <xyzOffsets>0 0 0</xyzOffsets>
      <rpyOffsets>0 0 0</rpyOffsets>
    </plugin>
  </gazebo>

  <!-- 左脚 -->
  <gazebo reference="leg_l6_link">
    <mu1>1.5</mu1>
    <mu2>2.5</mu2>
    <self_collide>1</self_collide>
    <kp value="1000000.0"/>
    <kd value="100.0"/>
    <maxVel>3</maxVel>
    <minDepth>0.00</minDepth>
  </gazebo>
  <gazebo reference="l_foot_heel">
    <mu1>1.5</mu1>
    <mu2>2.5</mu2>
    <self_collide>1</self_collide>
    <kp value="1000000.0"/>
    <kd value="100.0"/>
    <maxVel>3</maxVel>
    <minDepth>0.00</minDepth>
  </gazebo>
  <gazebo reference="l_foot_toe">
    <mu1>1.5</mu1>
    <mu2>2.5</mu2>
    <self_collide>1</self_collide>
    <kp value="1000000.0"/>
    <kd value="100.0"/>
    <maxVel>3</maxVel>
    <minDepth>0.00</minDepth>
  </gazebo>
  <gazebo reference="lr_foot_heel">
    <mu1>1.5</mu1>
    <mu2>2.5</mu2>
    <self_collide>1</self_collide>
    <kp value="1000000.0"/>
    <kd value="100.0"/>
    <maxVel>3</maxVel>
    <minDepth>0.00</minDepth>
  </gazebo>
  <gazebo reference="lr_foot_toe">
    <mu1>1.5</mu1>
    <mu2>2.5</mu2>
    <self_collide>1</self_collide>
    <kp value="1000000.0"/>
    <kd value="100.0"/>
    <maxVel>3</maxVel>
    <minDepth>0.00</minDepth>
  </gazebo>
  <gazebo reference="ll_foot_heel">
    <mu1>1.5</mu1>
    <mu2>2.5</mu2>
    <self_collide>1</self_collide>
    <kp value="1000000.0"/>
    <kd value="100.0"/>
    <maxVel>3</maxVel>
    <minDepth>0.00</minDepth>
  </gazebo>
  <gazebo reference="ll_foot_toe">
    <mu1>1.5</mu1>
    <mu2>2.5</mu2>
    <self_collide>1</self_collide>
    <kp value="1000000.0"/>
    <kd value="100.0"/>
    <maxVel>3</maxVel>
    <minDepth>0.00</minDepth>
  </gazebo>

  <!-- 右脚 -->
  <gazebo reference="leg_r6_link">
    <mu1>1.5</mu1>
    <mu2>2.5</mu2>
    <self_collide>1</self_collide>
    <kp value="1000000.0"/>
    <kd value="100.0"/>
    <maxVel>3</maxVel>
    <minDepth>0.00</minDepth>
  </gazebo>
  <gazebo reference="r_foot_heel">
    <mu1>1.5</mu1>
    <mu2>2.5</mu2>
    <self_collide>1</self_collide>
    <kp value="1000000.0"/>
    <kd value="100.0"/>
    <maxVel>3</maxVel>
    <minDepth>0.00</minDepth>
  </gazebo>
  <gazebo reference="r_foot_toe">
    <mu1>1.5</mu1>
    <mu2>2.5</mu2>
    <self_collide>1</self_collide>
    <kp value="1000000.0"/>
    <kd value="100.0"/>
    <maxVel>3</maxVel>
    <minDepth>0.00</minDepth>
  </gazebo>
  <gazebo reference="rl_foot_toe">
    <mu1>1.5</mu1>
    <mu2>2.5</mu2>
    <self_collide>1</self_collide>
    <kp value="1000000.0"/>
    <kd value="100.0"/>
    <maxVel>3</maxVel>
    <minDepth>0.00</minDepth>
  </gazebo>
  <gazebo reference="rl_foot_heel">
    <mu1>1.5</mu1>
    <mu2>2.5</mu2>
    <self_collide>1</self_collide>
    <kp value="1000000.0"/>
    <kd value="100.0"/>
    <maxVel>3</maxVel>
    <minDepth>0.00</minDepth>
  </gazebo>
  <gazebo reference="rr_foot_toe">
    <mu1>1.5</mu1>
    <mu2>2.5</mu2>
    <self_collide>1</self_collide>
    <kp value="1000000.0"/>
    <kd value="100.0"/>
    <maxVel>3</maxVel>
    <minDepth>0.00</minDepth>
  </gazebo>
  <gazebo reference="rr_foot_heel">
    <mu1>1.5</mu1>
    <mu2>2.5</mu2>
    <self_collide>1</self_collide>
    <kp value="1000000.0"/>
    <kd value="100.0"/>
    <maxVel>3</maxVel>
    <minDepth>0.00</minDepth>
  </gazebo>

  <!-- 仿真插件 -->
  <gazebo>
    <plugin name="gazebo_shm_interface" filename="libgazebo_sim_shm_interface.so">
      <!-- IMU配置 gazebo中fixed连接的link都只能获取第一个-->
      <imu>
        <frame_id>dummy_link</frame_id>
      </imu>
      
      <!-- 关节配置 -->
      <joints>
        <!-- 左腿关节 -->
        <joint><name>leg_l1_joint</name></joint>
        <joint><name>leg_l2_joint</name></joint>
        <joint><name>leg_l3_joint</name></joint>
        <joint><name>leg_l4_joint</name></joint>
        <joint><name>leg_l5_joint</name></joint>
        <joint><name>leg_l6_joint</name></joint>
        
        <!-- 右腿关节 -->
        <joint><name>leg_r1_joint</name></joint>
        <joint><name>leg_r2_joint</name></joint>
        <joint><name>leg_r3_joint</name></joint>
        <joint><name>leg_r4_joint</name></joint>
        <joint><name>leg_r5_joint</name></joint>
        <joint><name>leg_r6_joint</name></joint>
        
        <!-- 左臂关节 -->
        <joint><name>zarm_l1_joint</name></joint>
        <joint><name>zarm_l2_joint</name></joint>
        <joint><name>zarm_l3_joint</name></joint>
        <joint><name>zarm_l4_joint</name></joint>
        <joint><name>zarm_l5_joint</name></joint>
        <joint><name>zarm_l6_joint</name></joint>
        <joint><name>zarm_l7_joint</name></joint>
        
        <!-- 右臂关节 -->
        <joint><name>zarm_r1_joint</name></joint>
        <joint><name>zarm_r2_joint</name></joint>
        <joint><name>zarm_r3_joint</name></joint>
        <joint><name>zarm_r4_joint</name></joint>
        <joint><name>zarm_r5_joint</name></joint>
        <joint><name>zarm_r6_joint</name></joint>
        <joint><name>zarm_r7_joint</name></joint>
        
        <!-- 头部关节 -->
        <joint><name>zhead_1_joint</name></joint>
        <joint><name>zhead_2_joint</name></joint>
      </joints>
      
      <!-- 接触传感器配置 -->
      <contacts>
        <contact><link>ll_foot_toe</link></contact>
        <contact><link>ll_foot_heel</link></contact>
        <contact><link>lr_foot_toe</link></contact>
        <contact><link>lr_foot_heel</link></contact>
        <contact><link>rl_foot_toe</link></contact>
        <contact><link>rl_foot_heel</link></contact>
        <contact><link>rr_foot_toe</link></contact>
        <contact><link>rr_foot_heel</link></contact>
      </contacts>
      </plugin>
  </gazebo>
  
</robot>
